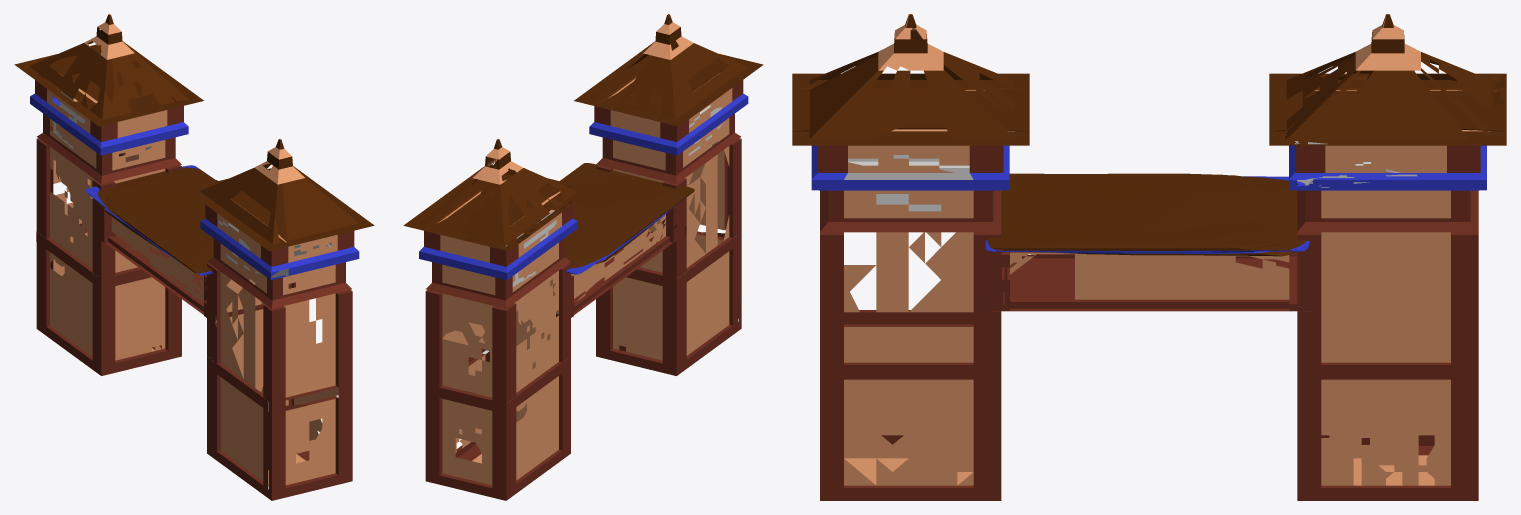
File: semidemolished_entrance_yamato.fbx
3 renders of one model, left to right at view 1: azimuth 30°, elevation 25°; view 2: azimuth 150°, elevation 25°; view 3: azimuth 270°, elevation 25°, orthographic. The views are drawn at different scales.
Visible parts, largest first — view 1: Cube, Cube.002, Cube.005, Cube.001, Cube.003, Cube.004, Plane; view 2: Cube.002, Cube, Cube.005, Cube.003, Cube.001, Cube.004, Plane; view 3: Cube.002, Cube, Cube.005, Cube.001, Cube.003, Cube.004, Plane.
Part boxes in pixels (x1=…): Cube: x1=185, y1=166, x2=374, y2=500; Cube.002: x1=14, y1=41, x2=203, y2=375; Cube.005: x1=85, y1=165, x2=217, y2=275; Cube.001: x1=200, y1=139, x2=358, y2=244; Cube.003: x1=29, y1=14, x2=188, y2=119; Cube.004: x1=97, y1=202, x2=292, y2=405; Plane: x1=105, y1=234, x2=203, y2=314; Cube.002: x1=403, y1=164, x2=592, y2=500; Cube: x1=574, y1=41, x2=763, y2=375; Cube.005: x1=560, y1=163, x2=694, y2=274; Cube.003: x1=418, y1=139, x2=577, y2=246; Cube.001: x1=589, y1=14, x2=747, y2=119; Cube.004: x1=486, y1=202, x2=681, y2=422; Plane: x1=574, y1=231, x2=672, y2=314; Cube.002: x1=1269, y1=73, x2=1506, y2=500; Cube: x1=792, y1=73, x2=1029, y2=500; Cube.005: x1=985, y1=173, x2=1309, y2=256; Cube.001: x1=808, y1=14, x2=1014, y2=139; Cube.003: x1=1285, y1=14, x2=1492, y2=140; Cube.004: x1=988, y1=252, x2=1308, y2=311; Plane: x1=991, y1=256, x2=1310, y2=311.
Size of the model in its own units: 300 by 854 by 1205.
